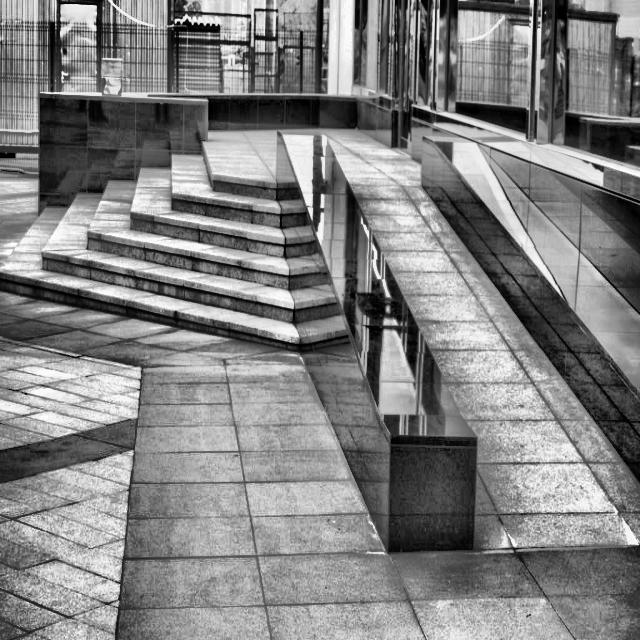escada: (1, 150, 350, 350)
